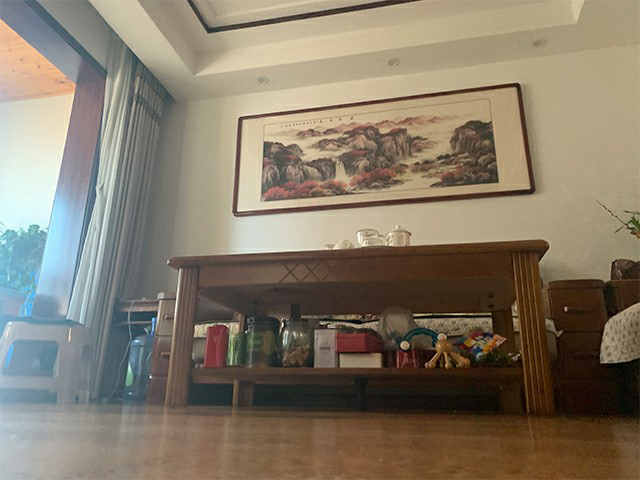curtain: (77, 65, 125, 407)
sofa: (544, 257, 640, 417)
stool: (3, 316, 91, 405)
table: (166, 238, 558, 417)
wire: (96, 299, 136, 404)
